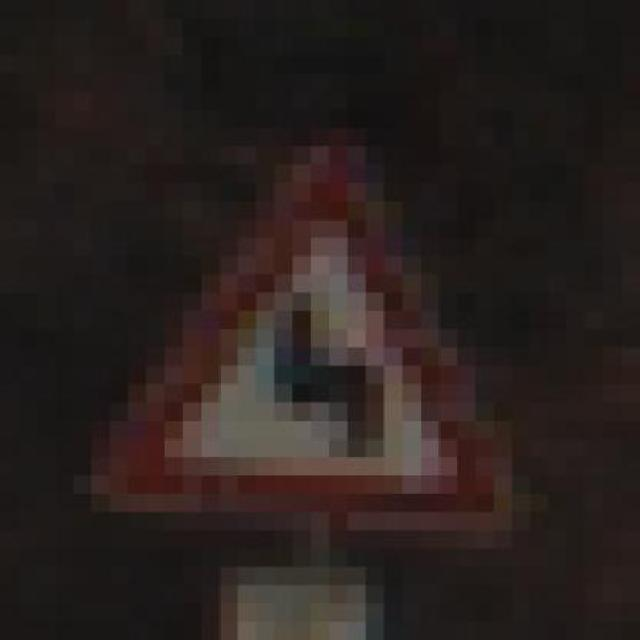Left Zig Zag Traffic: (72, 110, 512, 548)
